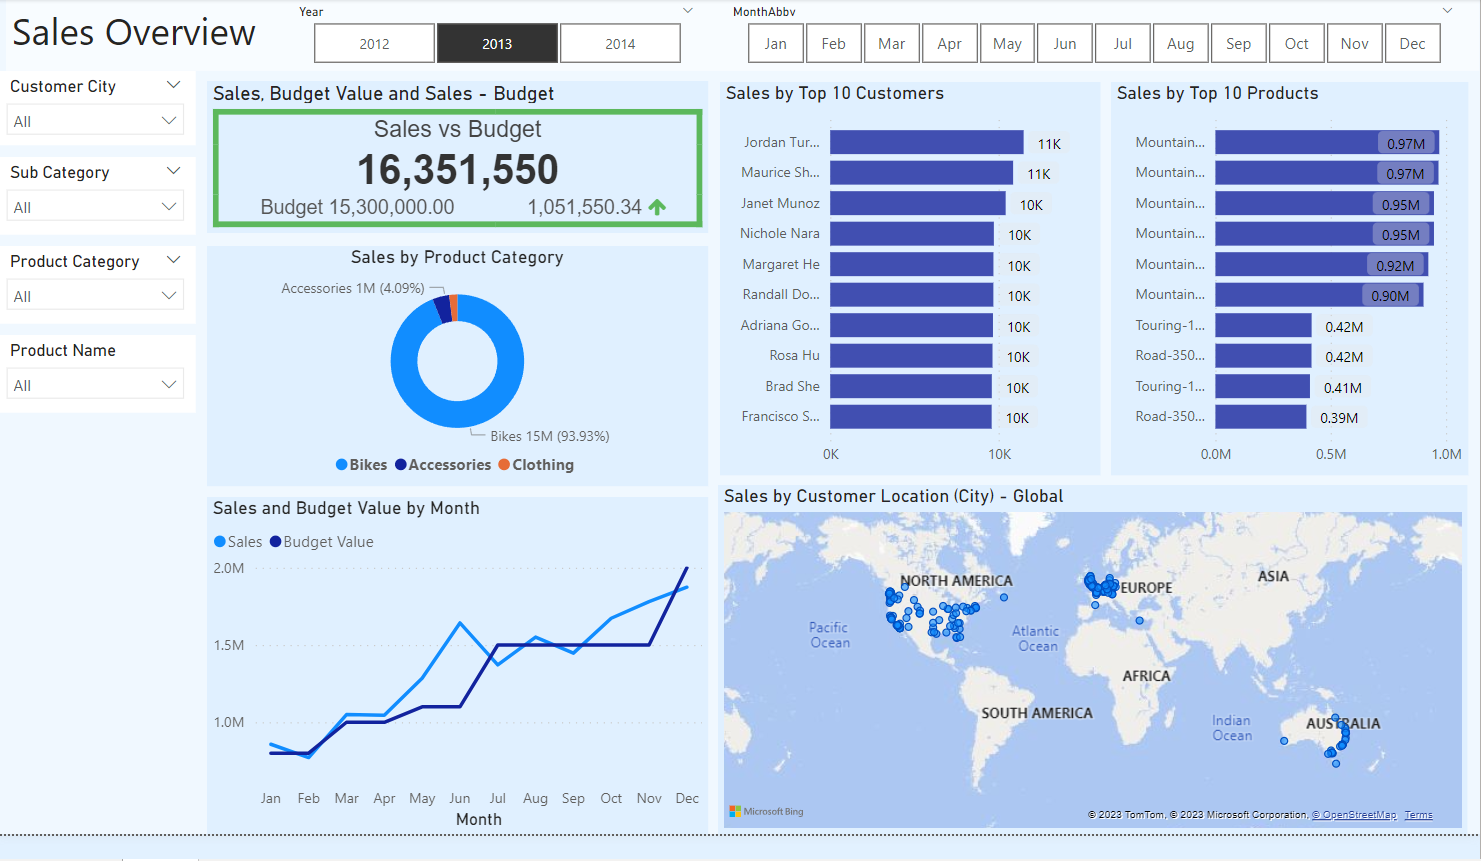

What the dashboard file says about the page in this screenshot:
{"tool":"powerbi","page":{"name":"Page 1","canvas":[1280,720],"ordinal":0},"visuals":[{"type":"textbox","box":[9.7,0,1270.3,62.2],"z":0},{"type":"slicer","fields":{"Values":["DIM_Customers.Customer City"]},"box":[0,62,172.9,64],"z":1000},{"type":"slicer","fields":{"Values":["DIM_Products.Sub Category"]},"box":[0,135.9,172.9,66.9],"z":2000},{"type":"slicer","fields":{"Values":["DIM_Products.Product Category"]},"box":[0,212.8,172.9,66.9],"z":3000},{"type":"slicer","fields":{"Values":["DIM_Products.Product Name"]},"box":[0,289.8,172.9,66.9],"z":4000},{"type":"slicer","fields":{"Values":["DIM_Dates.Year"]},"box":[248.8,0,365.7,62],"z":5000},{"type":"slicer","fields":{"Values":["DIM_Dates.MonthAbbv"]},"box":[623.5,0,646.5,62],"z":6000},{"type":"BBED0A4D4D8D44CE93CF2DAFADEE466C","fields":{"actual":["Measures Table.Sales"],"target1":["Measures Table.Budget Value"],"target2":["Measures Table.Sales - Budget"]},"box":[182.7,70.7,431.8,131],"z":7000},{"type":"donutChart","fields":{"Category":["DIM_Products.Product Category"],"Y":["Measures Table.Sales"]},"box":[182.9,212.8,431.7,206.8],"z":8000},{"type":"lineChart","title":"Sales and Budget Value by Month","fields":{"Y":["Measures Table.Sales","Measures Table.Budget Value"],"Category":["DIM_Dates.MonthAbbv"]},"box":[182.9,429.2,431.7,290.8],"z":9000},{"type":"barChart","title":"Sales by Top 10 Customers","fields":{"Y":["Measures Table.Sales"],"Category":["DIM_Customers.Full Name"]},"box":[624.5,71.9,327.7,338.7],"z":10000},{"type":"barChart","title":"Sales by Top 10 Products","fields":{"Y":["Measures Table.Sales"],"Category":["DIM_Products.Product Name"]},"box":[962.2,71.9,307.8,338.7],"z":11000},{"type":"map","title":"Sales by Customer Location (City) - Global","fields":{"Category":["DIM_Customers.Customer City"]},"box":[623.5,419.2,646.5,300.8],"z":12000}]}

Visuals, with their boxes on the page's 1280x720 design canvas (x1, y1, x2, y2). These are canvas units, not pixel positions in the 1481x861 screenshot, which may show the page scaled, cropped or inside an application window:
textbox: {"x1": 10, "y1": 0, "x2": 1280, "y2": 62}
slicer - DIM_Customers.Customer City: {"x1": 0, "y1": 62, "x2": 173, "y2": 126}
slicer - DIM_Products.Sub Category: {"x1": 0, "y1": 136, "x2": 173, "y2": 203}
slicer - DIM_Products.Product Category: {"x1": 0, "y1": 213, "x2": 173, "y2": 280}
slicer - DIM_Products.Product Name: {"x1": 0, "y1": 290, "x2": 173, "y2": 357}
slicer - DIM_Dates.Year: {"x1": 249, "y1": 0, "x2": 614, "y2": 62}
slicer - DIM_Dates.MonthAbbv: {"x1": 624, "y1": 0, "x2": 1270, "y2": 62}
BBED0A4D4D8D44CE93CF2DAFADEE466C - Measures Table.Sales x Measures Table.Budget Value: {"x1": 183, "y1": 71, "x2": 614, "y2": 202}
donutChart - DIM_Products.Product Category x Measures Table.Sales: {"x1": 183, "y1": 213, "x2": 615, "y2": 420}
"Sales and Budget Value by Month" lineChart: {"x1": 183, "y1": 429, "x2": 615, "y2": 720}
"Sales by Top 10 Customers" barChart: {"x1": 624, "y1": 72, "x2": 952, "y2": 411}
"Sales by Top 10 Products" barChart: {"x1": 962, "y1": 72, "x2": 1270, "y2": 411}
"Sales by Customer Location (City) - Global" map: {"x1": 624, "y1": 419, "x2": 1270, "y2": 720}
